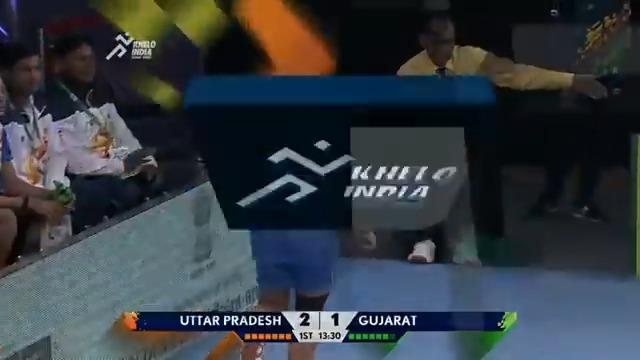referee: (395, 10, 611, 267)
